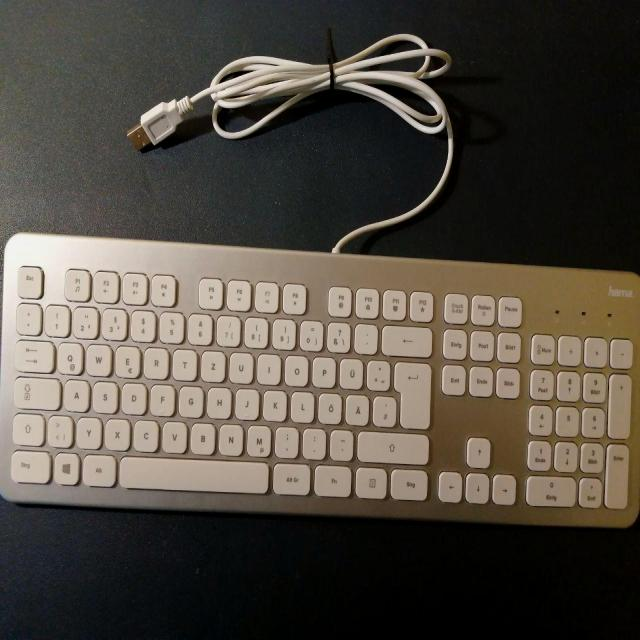0: (298, 318, 323, 350)
1: (43, 303, 69, 335)
2: (72, 303, 98, 337)
3: (101, 306, 127, 338)
4: (130, 308, 155, 340)
5: (158, 309, 184, 341)
6: (187, 311, 211, 343)
7: (215, 313, 240, 345)
8: (243, 314, 267, 346)
9: (271, 316, 295, 348)
a: (62, 376, 88, 410)
accent: (353, 321, 377, 353)
ae: (344, 392, 368, 424)
alt-left: (81, 452, 116, 486)
altgr-right: (271, 461, 310, 493)
b: (189, 421, 215, 453)
c: (132, 418, 158, 450)
caret: (14, 299, 40, 333)
comma: (274, 426, 298, 458)
d: (120, 379, 146, 413)
del: (380, 323, 432, 355)
e: (114, 343, 140, 377)
enter: (392, 358, 430, 428)
f: (149, 381, 174, 415)
g: (177, 383, 202, 415)
h: (206, 385, 231, 417)
hash: (371, 393, 395, 425)
i: (256, 351, 280, 383)
j: (234, 386, 258, 418)
k: (262, 387, 286, 419)
keyboard: (0, 231, 638, 525)
l: (289, 389, 313, 421)
less: (46, 412, 72, 446)
m: (245, 422, 270, 456)
minus: (328, 427, 352, 459)
n: (217, 422, 243, 454)
o: (283, 353, 307, 385)
oe: (317, 390, 341, 422)
p: (311, 354, 335, 386)
plus: (365, 357, 389, 389)
point: (301, 426, 325, 458)
q: (56, 339, 82, 373)
r: (143, 345, 168, 377)
s: (91, 378, 117, 412)
shift-left: (11, 410, 43, 444)
shift-lock: (11, 374, 59, 408)
shift-right: (356, 429, 429, 463)
space: (117, 454, 269, 492)
ss: (326, 319, 350, 351)
strg-left: (9, 447, 50, 481)
strg-right: (389, 467, 428, 499)
t: (171, 347, 196, 379)
tab: (13, 337, 53, 371)
u: (228, 350, 253, 382)
ue: (338, 356, 362, 388)
v: (160, 419, 186, 451)
w: (85, 341, 110, 375)
x: (103, 417, 129, 449)
y: (75, 414, 101, 448)
z: (200, 348, 225, 380)
